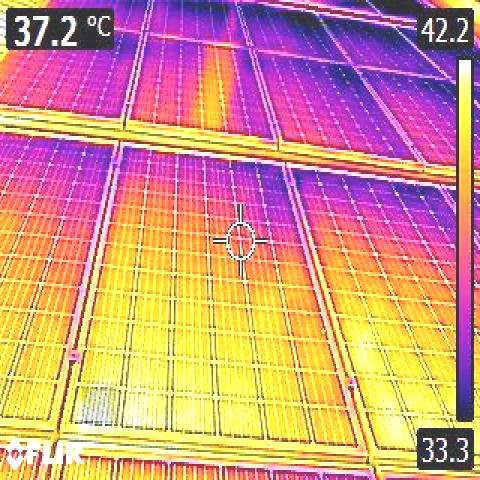fault: (82, 388, 116, 424)
